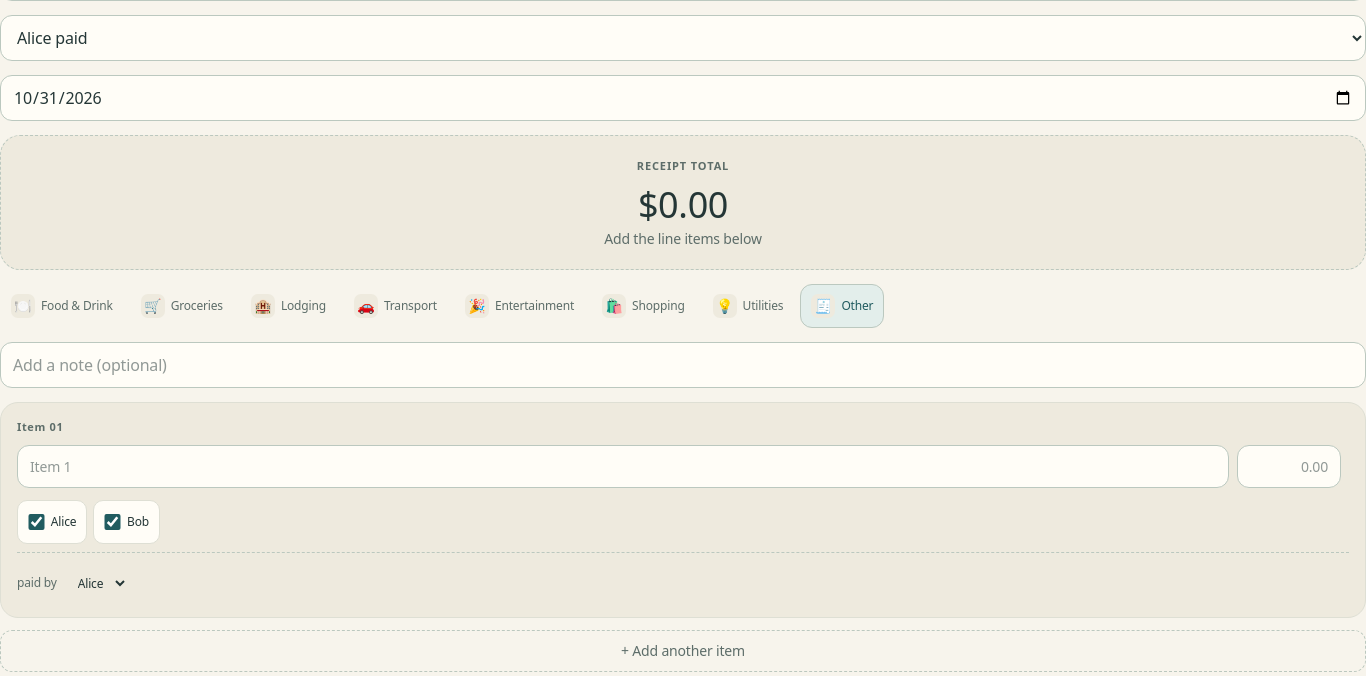
Test: tax and tip › adds the lines, the tax and the tip into the total on screen
The image size is (1366, 676).
Type "Beer" into the field named "Item 1 name" at [623, 466], box [17,445,1229,488]
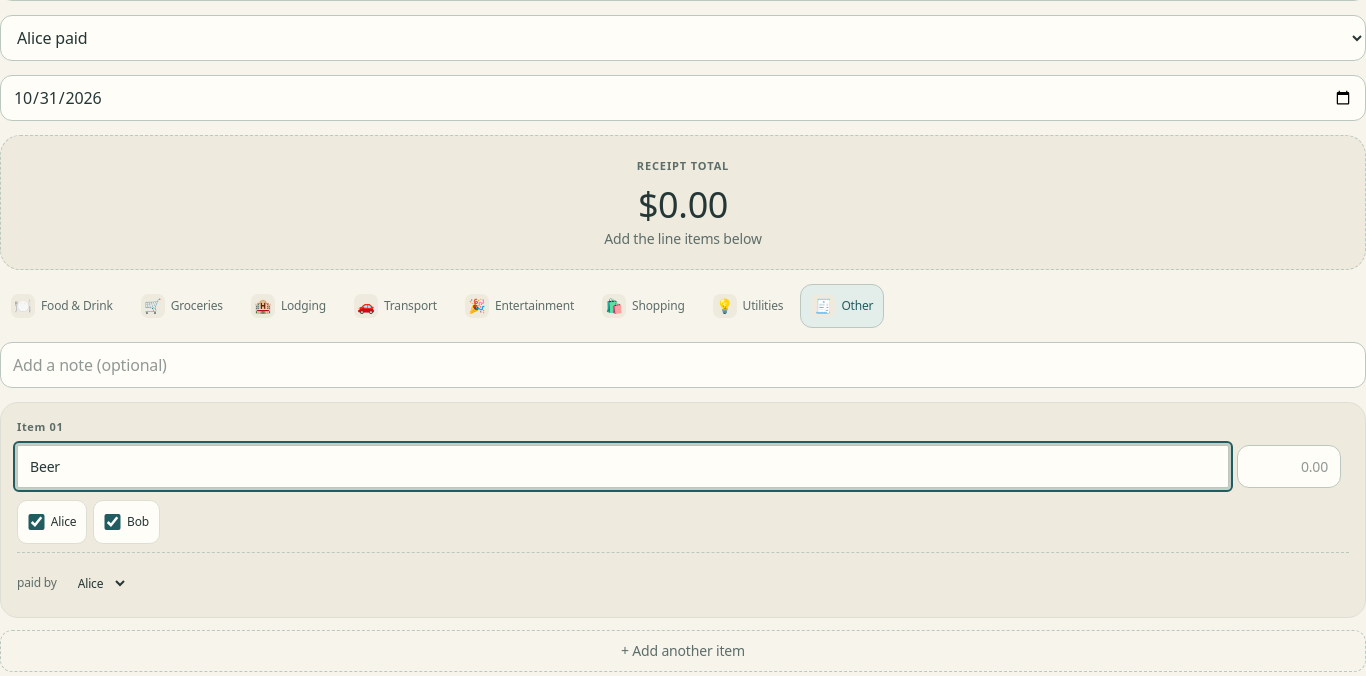
Type "20" into the field named "Item 1 amount" at [1289, 466], box [1237,445,1341,488]
(page scrolled)
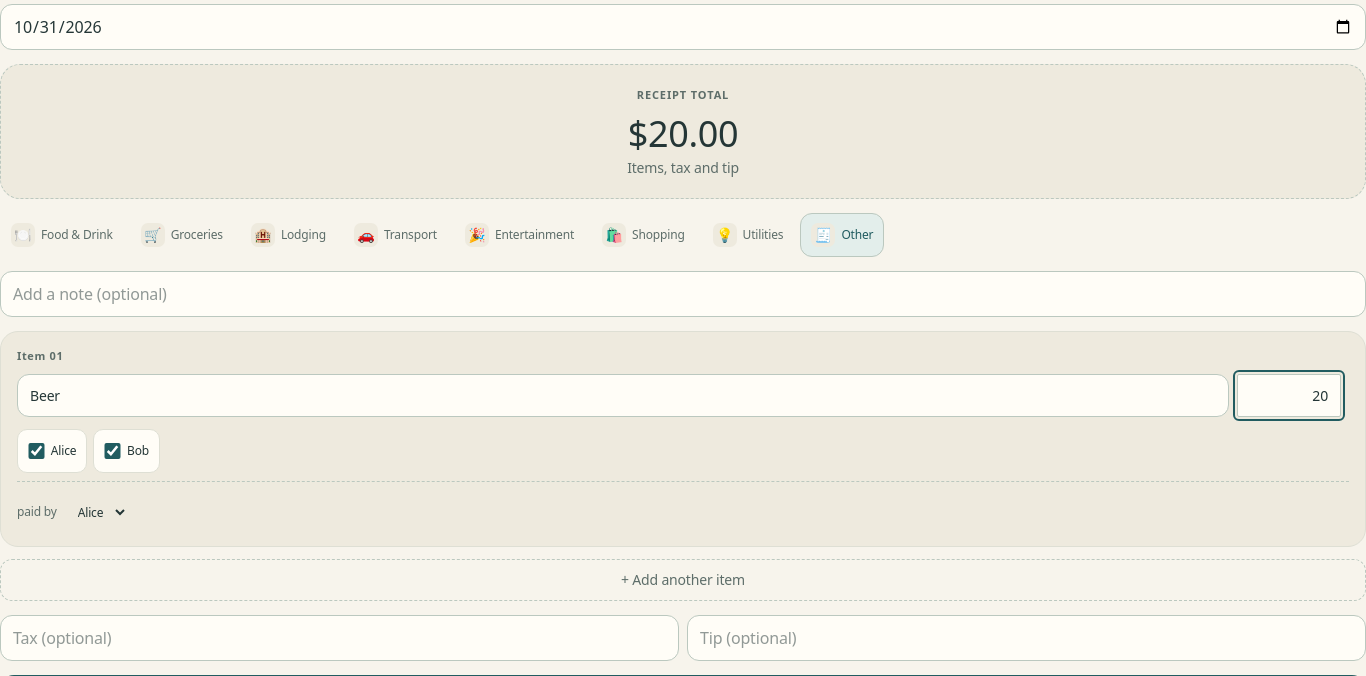
Type "1.75" into the field labelled "Tax" at [340, 638], box [0,615,679,661]
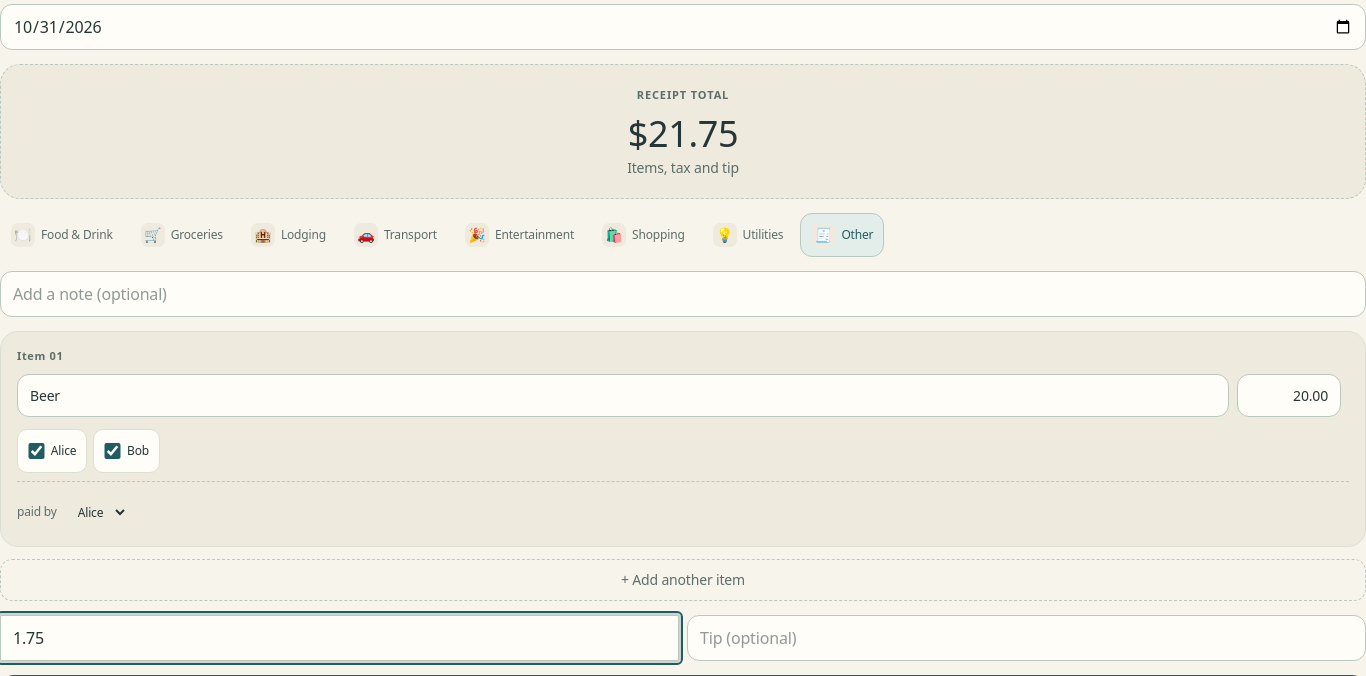
Type "4" into the field labelled "Tip" at [1026, 638], box [687,615,1365,661]
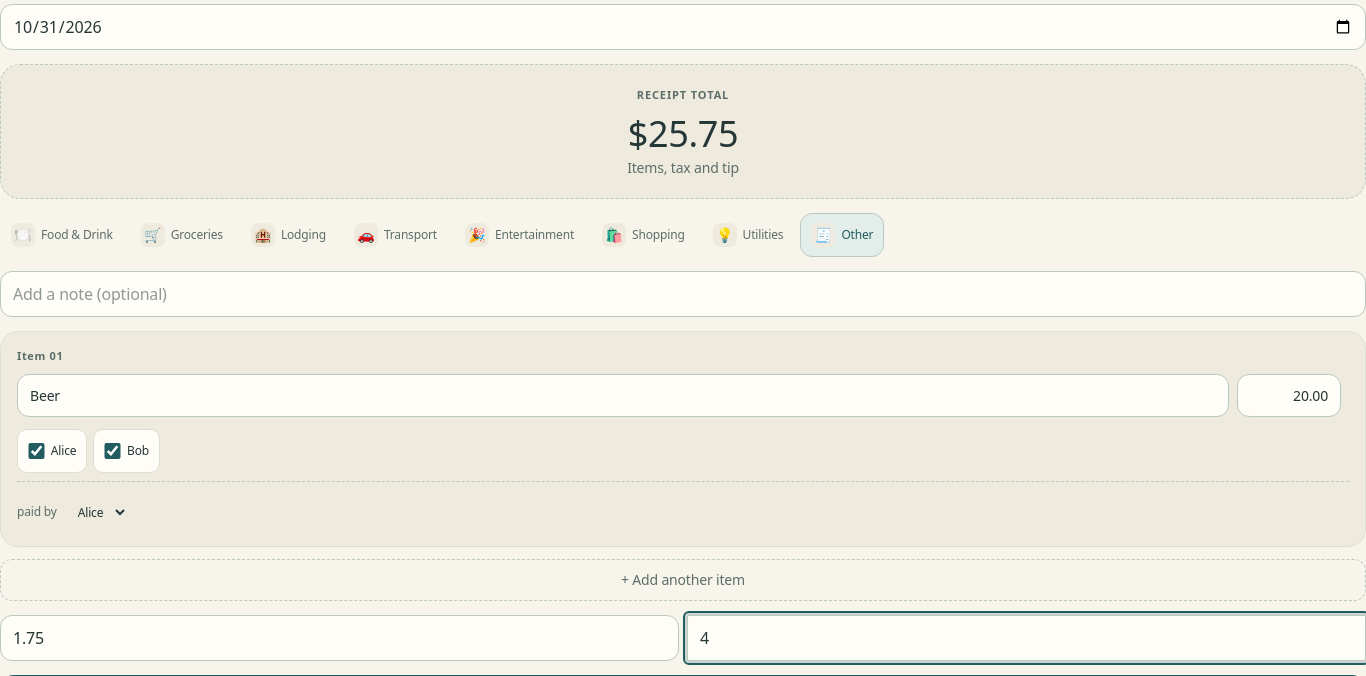
Expected: the text "$25.75" is shown, [628,108,738,158]
